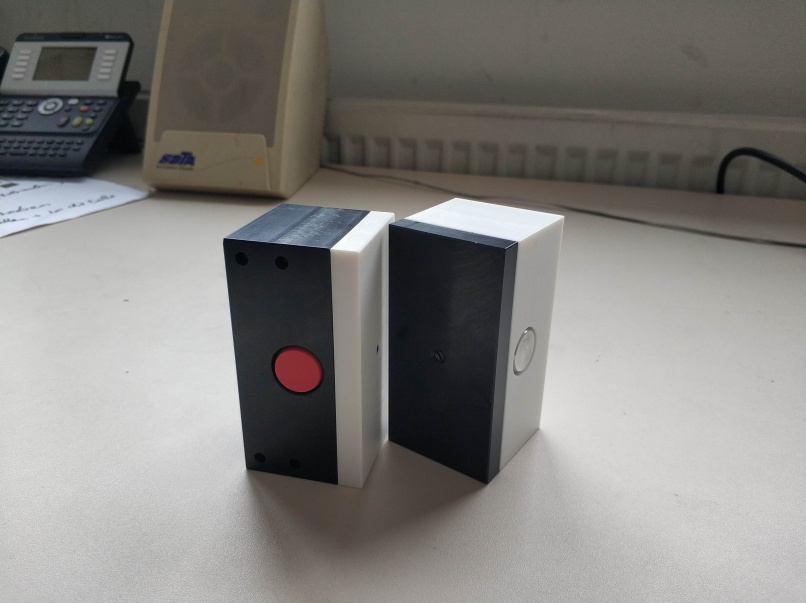black+white+silver: (386, 194, 567, 487)
white+black+red: (221, 203, 396, 492)
